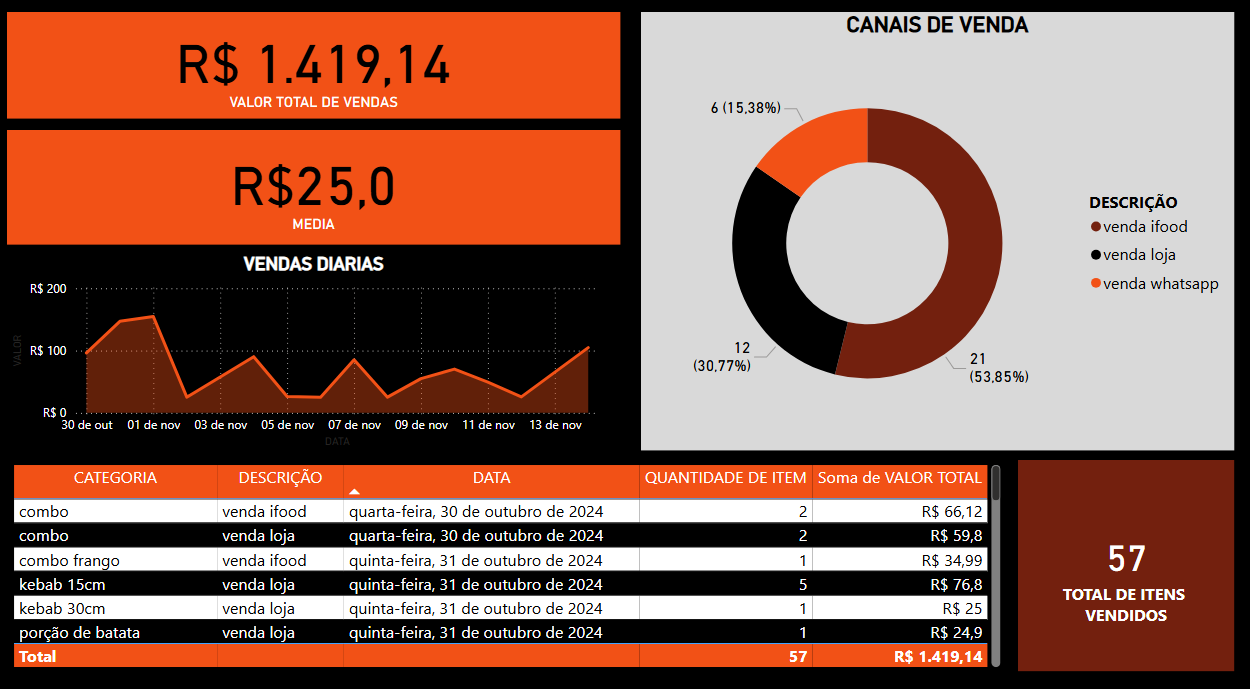

What the dashboard file says about the page in this screenshot:
{"tool":"powerbi","page":{"name":"Página 1","canvas":[1280,720],"ordinal":0},"visuals":[{"type":"card","fields":{"Values":["Sum(RECEITAS.VALOR TOTAL)"]},"box":[10.2,17.9,610,105.9],"z":0},{"type":"tableEx","fields":{"Values":["RECEITAS.CATEGORIA","RECEITAS.DESCRIÇÃO","RECEITAS.DATA","Sum(RECEITAS.QUANTIDADE)","Sum(RECEITAS.VALOR TOTAL)"]},"box":[10.6,463.7,992,211.4],"z":1000},{"type":"stackedAreaChart","title":"VENDAS DIARIAS","fields":{"Category":["RECEITAS.DATA"],"Y":["Sum(RECEITAS.VALOR)"]},"box":[10.2,257.8,610,197.8],"z":2000},{"type":"donutChart","title":"CANAIS DE VENDA","fields":{"Y":["CountNonNull(RECEITAS.METODO DE PAGAMENTO)"],"Category":["RECEITAS.DESCRIÇÃO"]},"box":[640.6,17.9,589.6,436.5],"z":3000},{"type":"card","fields":{"Values":["RECEITAS.MEDIA"]},"box":[10.2,135.3,610,113.6],"z":4000},{"type":"card","fields":{"Values":["RECEITAS.TIV"]},"box":[1015.8,463.7,215.3,210],"z":5000}]}

Visuals, with their boxes in screenshot pixels (x1, y1, x2, y2), scaled from the page's 1280x720 canvas onto the 1250x689 screenshot:
card - Sum(RECEITAS.VALOR TOTAL): 10,17,606,118
tableEx - RECEITAS.CATEGORIA x RECEITAS.DESCRIÇÃO: 10,444,979,646
"VENDAS DIARIAS" stackedAreaChart: 10,247,606,436
"CANAIS DE VENDA" donutChart: 626,17,1201,435
card - RECEITAS.MEDIA: 10,129,606,238
card - RECEITAS.TIV: 992,444,1202,645
